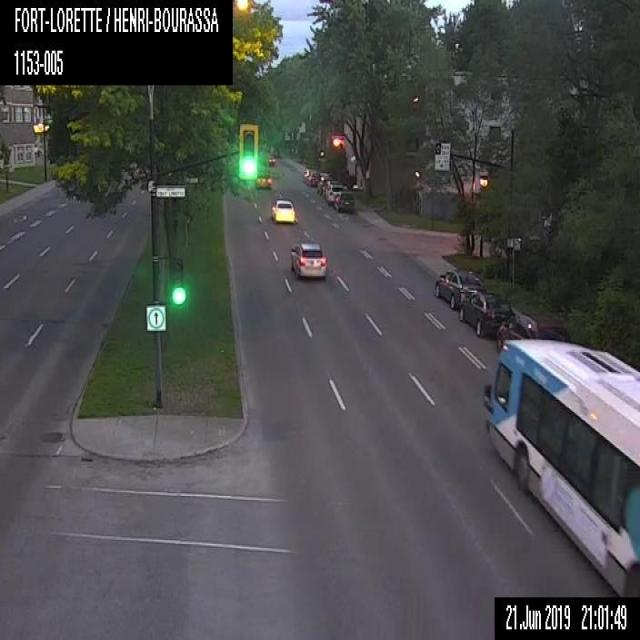bus: (484, 339, 639, 596)
vehicle: (496, 309, 574, 352), (460, 289, 514, 339), (431, 268, 484, 308), (288, 239, 328, 280), (272, 198, 298, 224), (332, 189, 357, 213), (323, 180, 349, 202), (255, 170, 273, 190), (316, 176, 332, 194), (305, 170, 321, 186), (301, 168, 313, 181), (268, 153, 278, 167)
